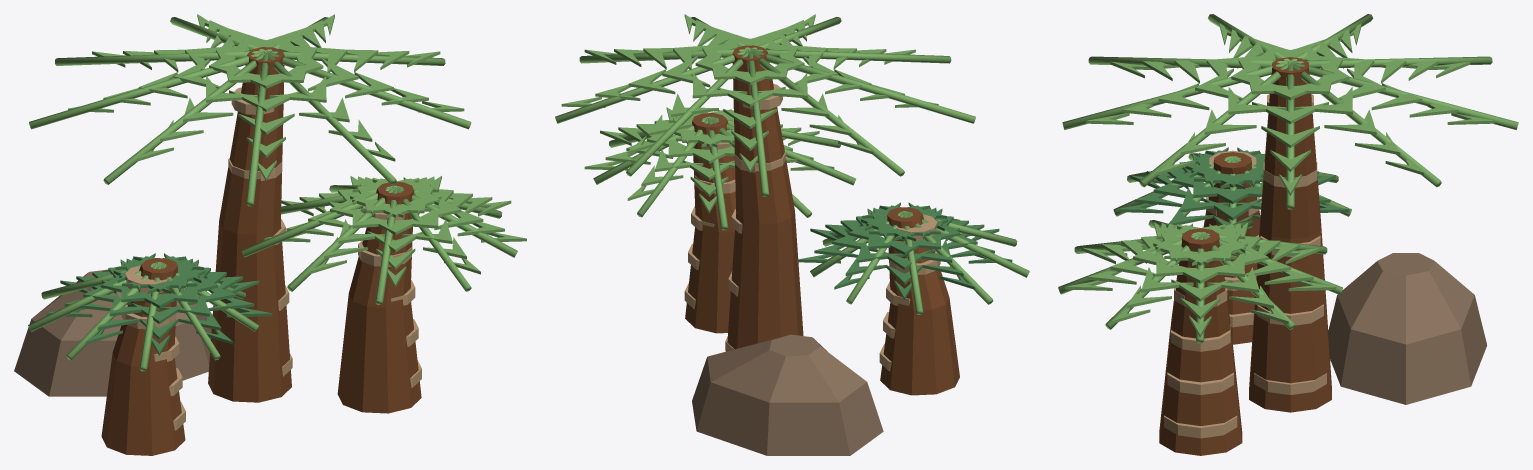
File: dino-cycads.glb
The picture shows the model from 3 angles, left to right: view 1: azimuth 30°, elevation 25°; view 2: azimuth 150°, elevation 25°; view 3: azimuth 270°, elevation 25°; orthographic projection. The views are drawn at different scales.
Parts seen in each view (by area): view 1: Structure; view 2: Structure; view 3: Structure.
Part boxes in pixels (bbox=[...]): Structure: bbox=[14, 14, 526, 455]; Structure: bbox=[555, 14, 1029, 455]; Structure: bbox=[1058, 14, 1518, 455].
Bounding box in the file's own units: 4.16 × 2.93 × 3.59.
